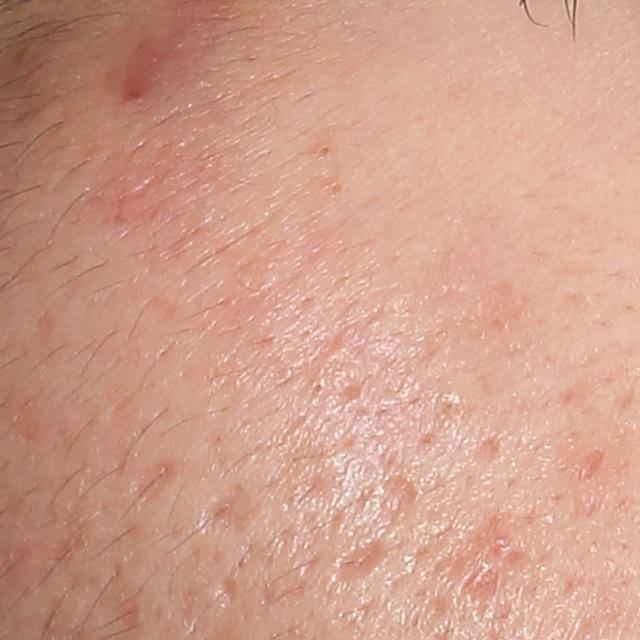atrophic_scar: (269, 440, 417, 538), (416, 508, 532, 626), (191, 480, 267, 546), (123, 456, 186, 513), (563, 443, 620, 500), (331, 538, 398, 584), (460, 428, 500, 476), (208, 572, 244, 617)
comedo: (322, 177, 345, 201), (308, 378, 330, 398), (316, 141, 330, 159)
